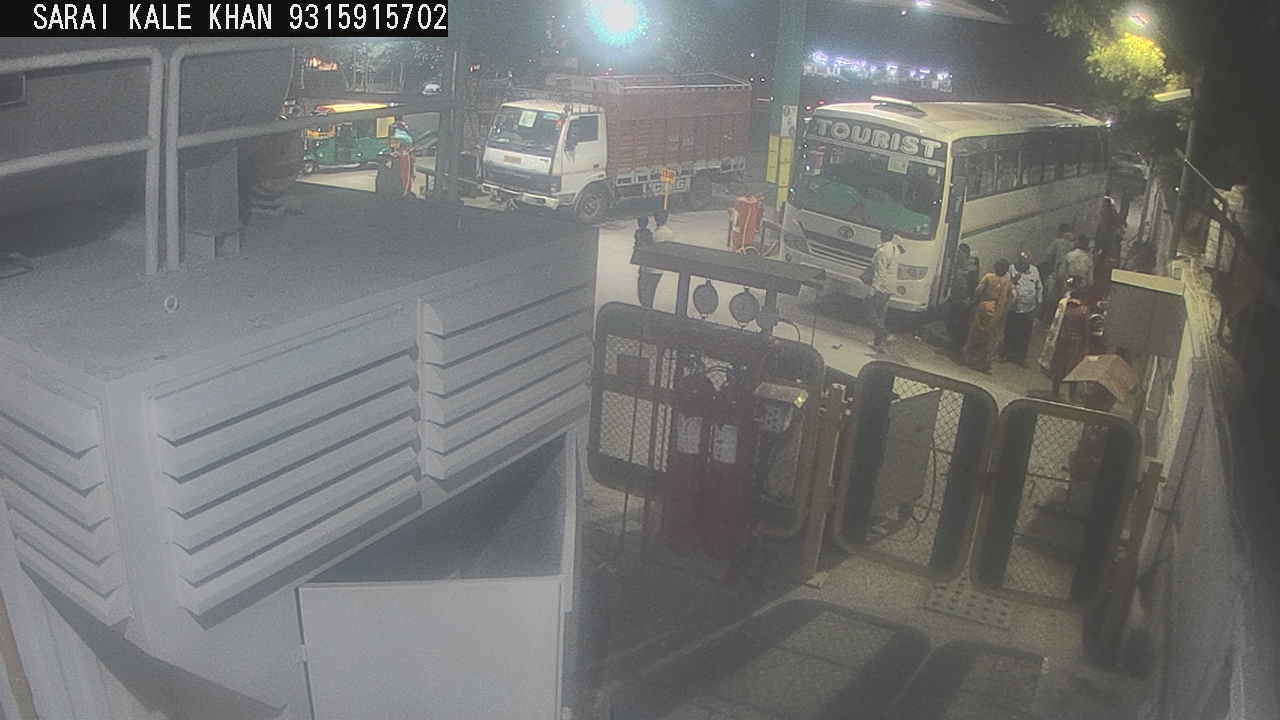Auto: (299, 90, 410, 178)
Car: (1100, 143, 1158, 191)
HMV: (755, 89, 1138, 338), (461, 60, 761, 237)
Others Other: (655, 153, 682, 242), (383, 133, 409, 160)
